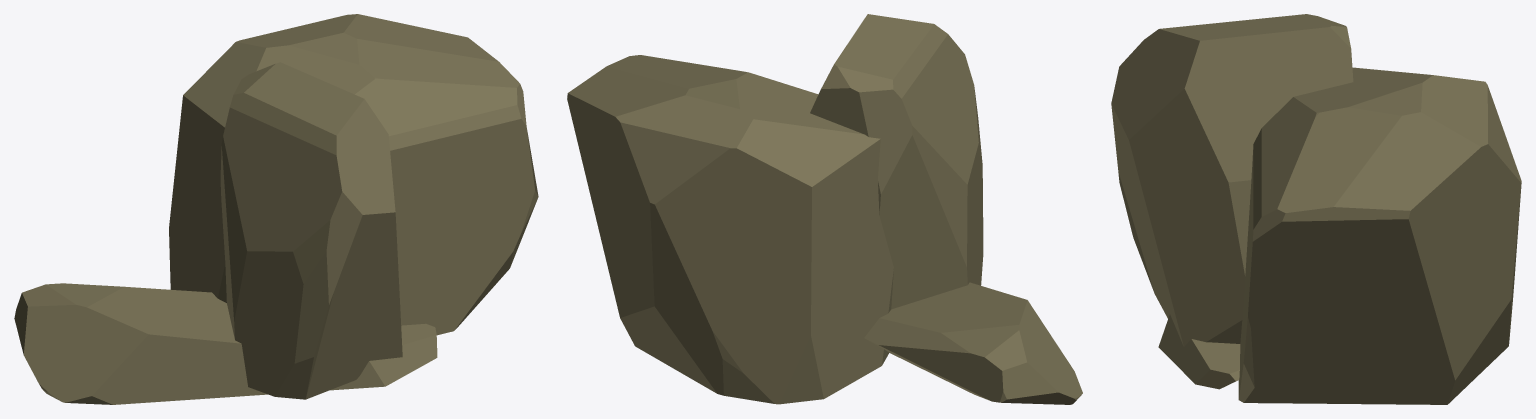
File: DesertRock2.fbx
3 views of the same model, side by side, from view 1: azimuth 30°, elevation 25°; view 2: azimuth 150°, elevation 25°; view 3: azimuth 270°, elevation 25° (orthographic). The views are drawn at different scales.
Visible parts, largest first — view 1: Desert.702; view 2: Desert.702; view 3: Desert.702.
Boxes of the visible parts, bbox=[...] form: Desert.702: bbox=[14, 14, 538, 404]; Desert.702: bbox=[567, 14, 1082, 404]; Desert.702: bbox=[1111, 14, 1521, 404].
Size of the model in its own units: 8.24 by 4.67 by 5.69.
